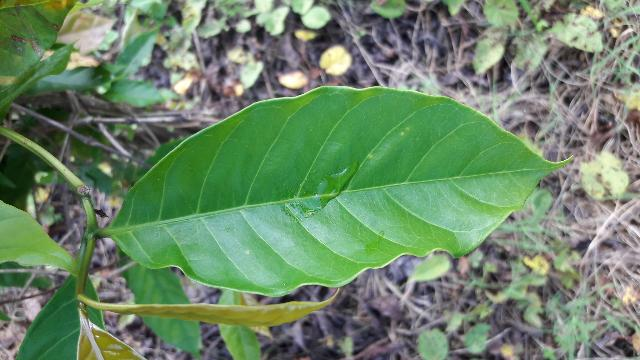rust_level_1: (92, 85, 573, 295)
